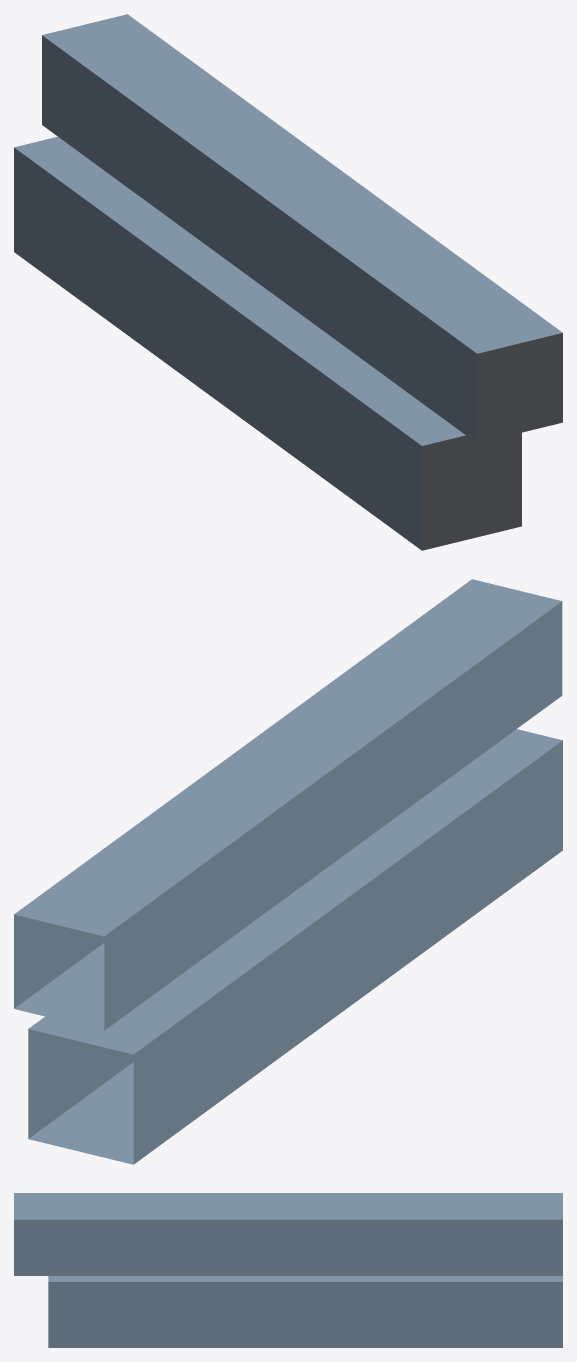
Rendered from island_bldg_09_06.obj.
3 views of the same model, one above another, from view 1: azimuth 30°, elevation 25°; view 2: azimuth 150°, elevation 25°; view 3: azimuth 270°, elevation 25° (orthographic). The views are drawn at different scales.
Parts seen in each view (by area): view 1: island_bldg_09_06; view 2: island_bldg_09_06; view 3: island_bldg_09_06.
Boxes of the visible parts, left/top/right/bottom form: island_bldg_09_06: left=14, top=14, right=562, bottom=550; island_bldg_09_06: left=14, top=579, right=562, bottom=1164; island_bldg_09_06: left=14, top=1193, right=562, bottom=1347.
Size of the model in its own units: 31.8 by 56.2 by 211.
